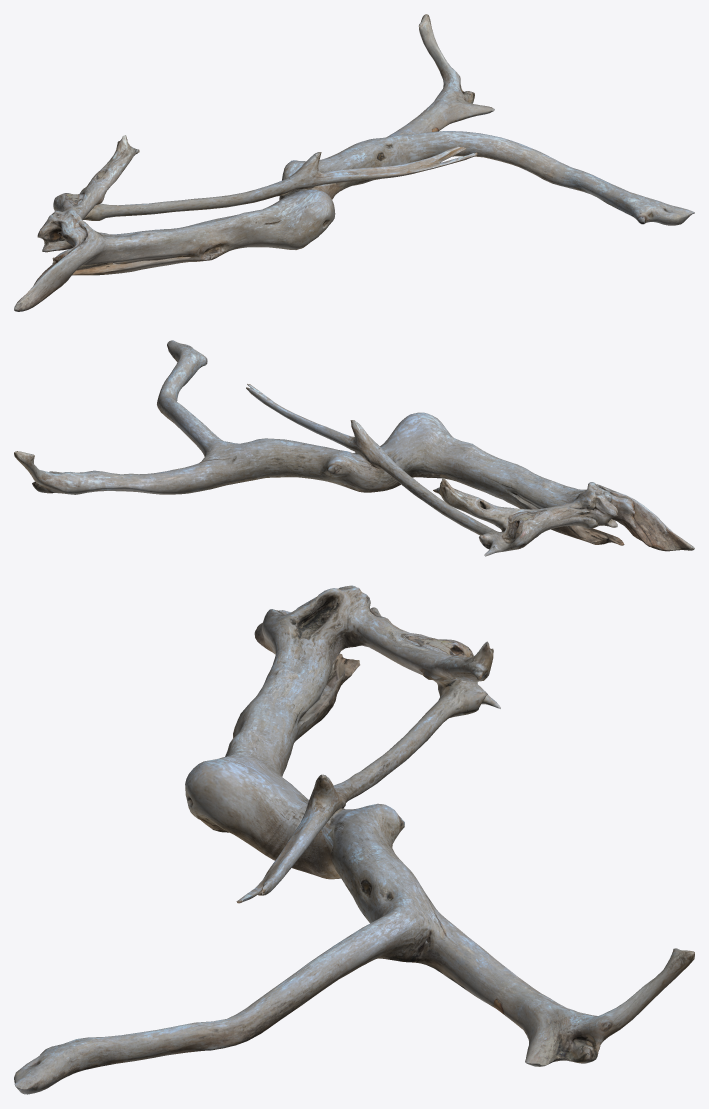
The model's file is tree_log_-_low_poly.glb.
3 views of the same model, one above another, from view 1: azimuth 30°, elevation 25°; view 2: azimuth 150°, elevation 25°; view 3: azimuth 270°, elevation 25° (orthographic). The views are drawn at different scales.
Visible parts, largest first — view 1: Object_2; view 2: Object_2; view 3: Object_2.
Part boxes in pixels (bbox=[...]): Object_2: bbox=[14, 14, 694, 311]; Object_2: bbox=[14, 340, 694, 556]; Object_2: bbox=[14, 585, 694, 1094].
Bounding box in the file's own units: 18.09 × 2.42 × 11.05.
1 material, 1 textured.
